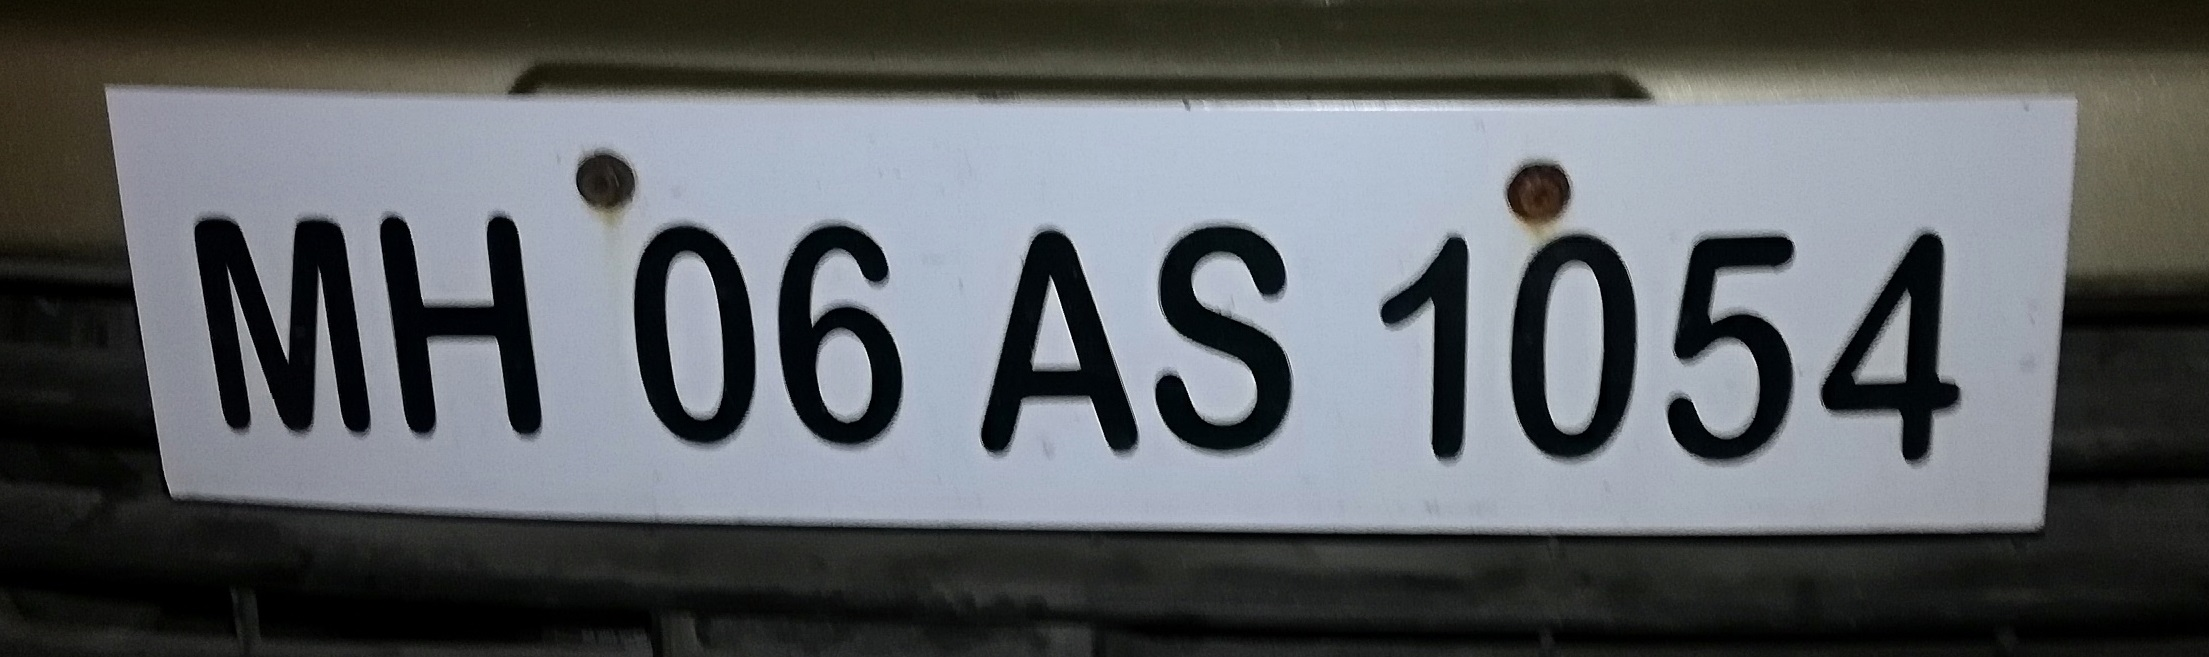numberplate: (98, 75, 2066, 535)
